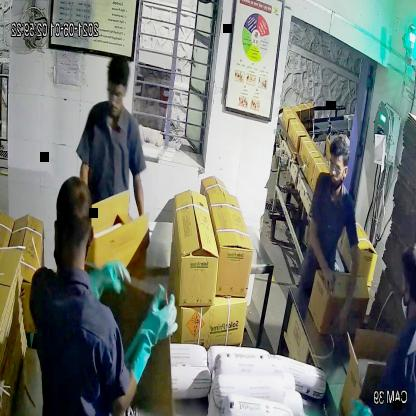goggles: (326, 157, 352, 179)
